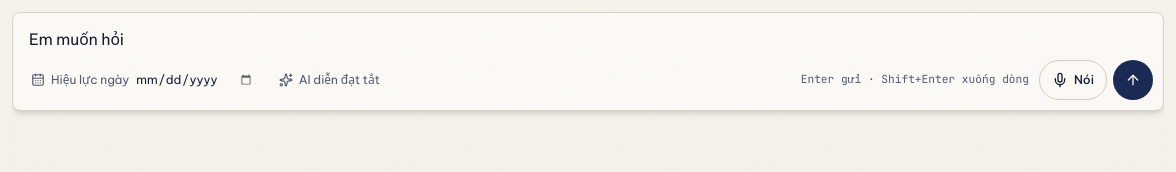
Test: Voice composer integration › stops playback, appends speech to the draft and never submits automatically
Later steps or results of the test are not shown.
Click the button with test id "button-mic".
click(1073, 80)  # box [1039,60,1107,100]
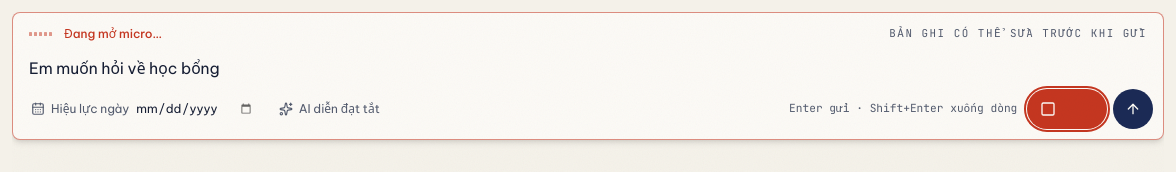
Expected: the text box with test id "input-question" holds "Em muốn hỏi về học bổng", [13,42,1163,89]
